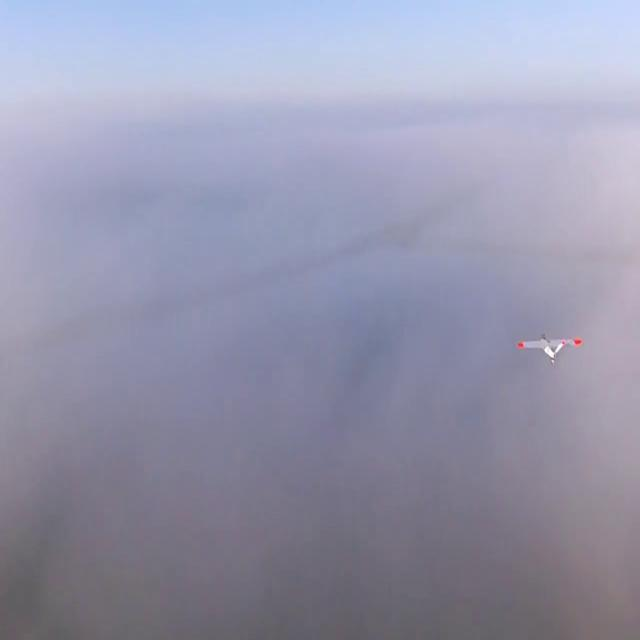iha: (518, 335, 580, 370)
